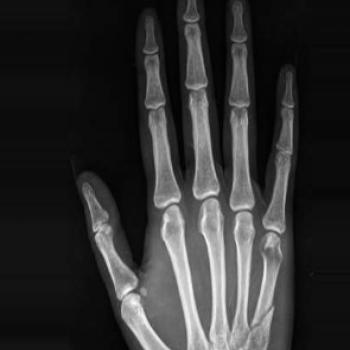Fracture: (249, 300, 280, 333)
